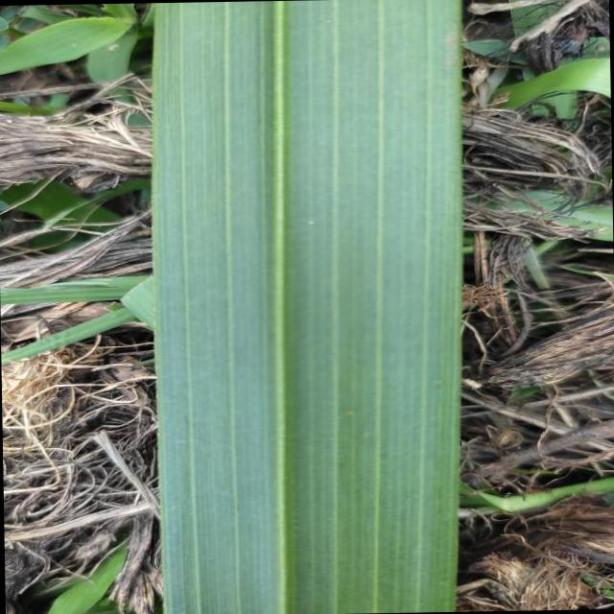Healthy: (154, 6, 466, 614)
